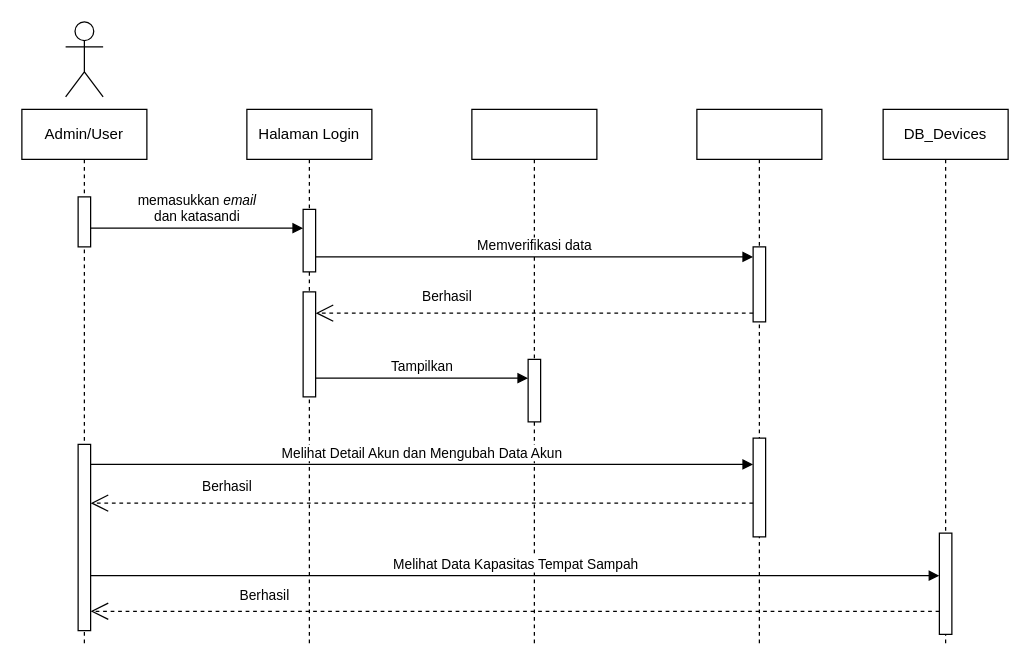
The diagram is 1030 pixels wide and 669 high, and some of its shapes have lost their labels. Here are the shapes that lost their labels. From the top down, the box of each, then its label:
(471, 108, 597, 647): Halaman Dashboard
(696, 108, 822, 647): DB_Users
